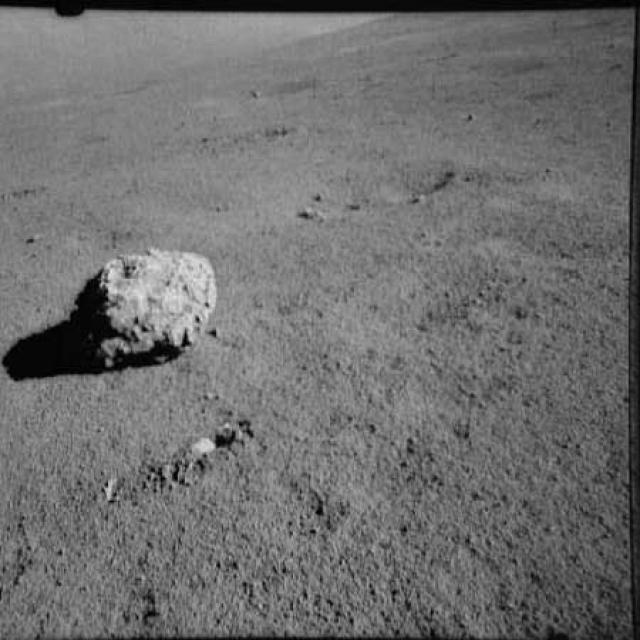crater: (291, 152, 470, 214), (184, 122, 298, 158)
rock: (65, 242, 234, 372)
